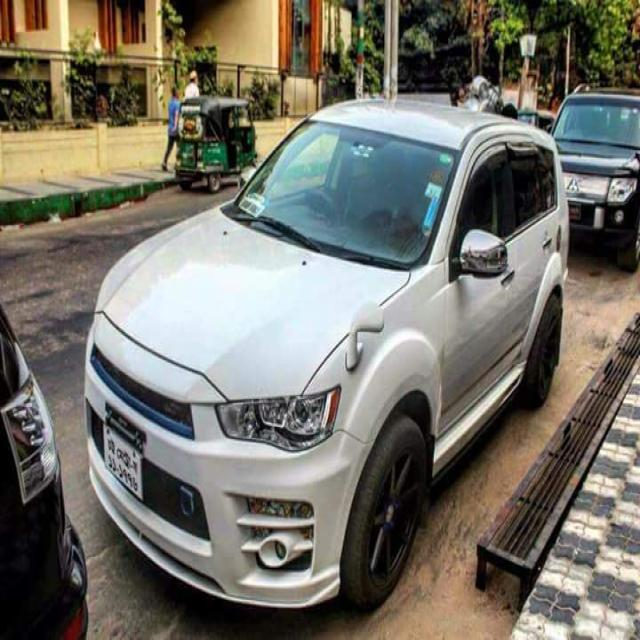numberplate: (101, 420, 144, 501)
